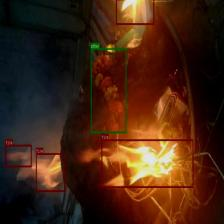fire: (101, 139, 193, 188), (35, 153, 65, 192), (116, 0, 154, 24), (5, 144, 31, 167)
